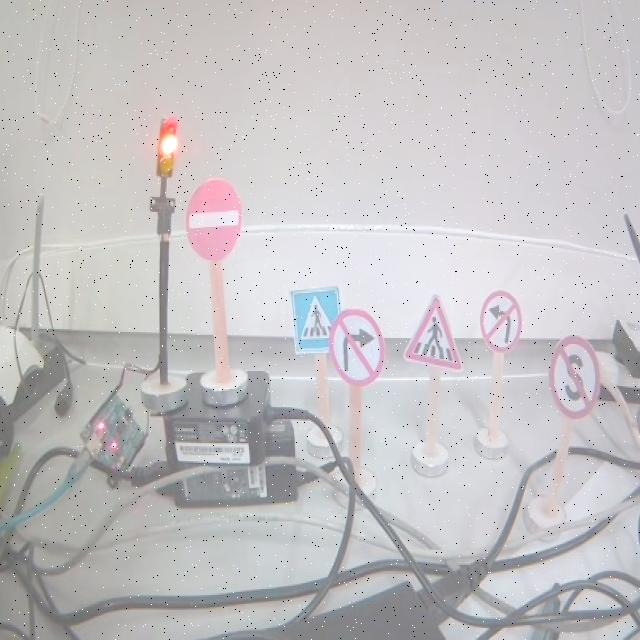Dilarang Belok Kanan: (328, 308, 385, 388)
Dilarang Belok Kiri: (480, 289, 523, 350)
Dilarang Masuk: (185, 179, 242, 263)
Lampu Kuning: (157, 116, 178, 176)
Rambu Berhenti: (544, 332, 597, 417)
Rambu Penyebrangan: (404, 296, 464, 373), (288, 286, 340, 354)
